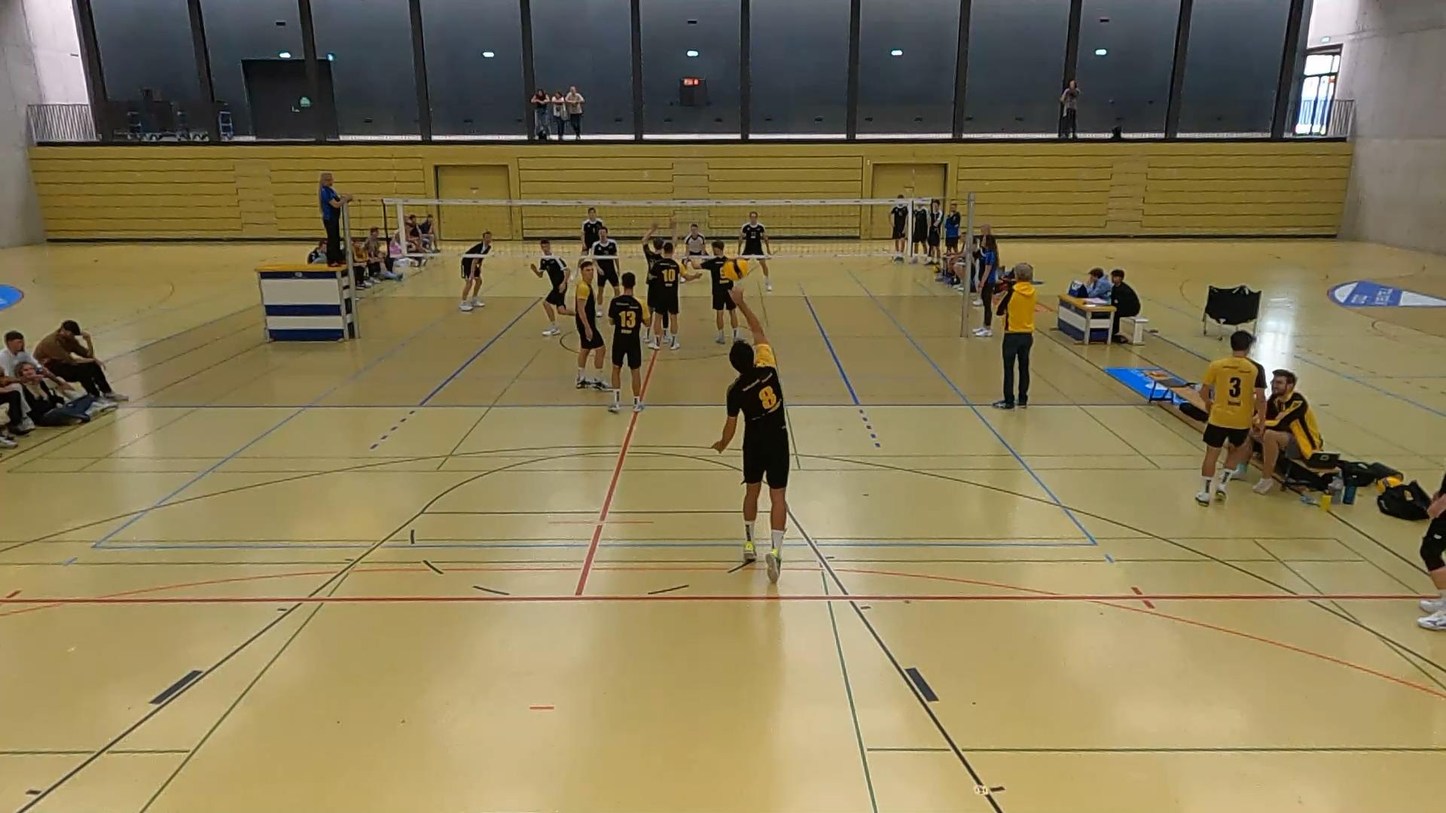Player: (608, 273, 648, 412), (650, 242, 700, 350), (700, 240, 746, 343), (573, 258, 606, 388), (530, 239, 571, 336), (642, 222, 668, 327), (738, 211, 771, 290), (459, 231, 491, 311), (590, 226, 618, 315), (581, 207, 604, 252), (682, 223, 706, 266)
Serve: (710, 281, 794, 589)
ball: (722, 255, 751, 283)
